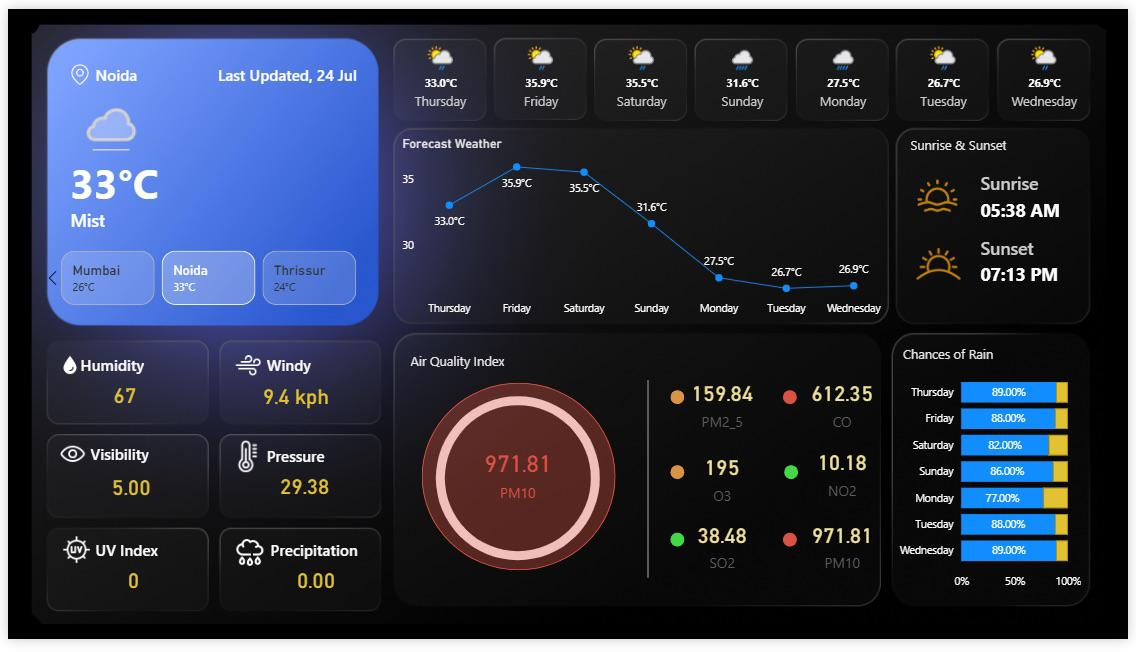

What the dashboard file says about the page in this screenshot:
{"tool":"powerbi","page":{"name":"Page 1","canvas":[1280,720],"ordinal":0},"visuals":[{"type":"image","box":[0,0,1280,720],"z":0},{"type":"advancedSlicerVisual","fields":{"Values":["Locations.location.name"]},"box":[35.7,271.4,388.6,72.9],"z":1000},{"type":"shape","box":[71.4,167.1,141.4,61.4],"z":2000},{"type":"shape","box":[71.4,210,178.6,61.4],"z":3000},{"type":"shape","box":[100,48.6,124.3,52.9],"z":4000},{"type":"shape","box":[240,48.6,174.3,52.9],"z":5000},{"type":"image","box":[51.4,58.6,61.4,32.9],"z":6000},{"type":"cardVisual","fields":{"Data":["Min(Current.current.condition.icon)"]},"box":[57.1,75.7,111.4,91.4],"z":7000},{"type":"image","box":[32.9,391.4,75.7,31.4],"z":8000},{"type":"shape","box":[82.9,380,191.4,52.9],"z":9000},{"type":"image","box":[252.9,387.1,42.9,40],"z":10000},{"type":"shape","box":[295.7,380,191.4,52.9],"z":11000},{"type":"image","box":[47.1,487.1,52.9,42.9],"z":12000},{"type":"shape","box":[94.3,481.4,191.4,52.9],"z":13000},{"type":"image","box":[247.1,488.6,52.9,45.7],"z":14000},{"type":"shape","box":[295.7,484.3,191.4,52.9],"z":15000},{"type":"image","box":[57.1,594.3,42.9,47.1],"z":16000},{"type":"shape","box":[100,591.4,191.4,52.9],"z":17000},{"type":"image","box":[252.9,594.3,47.1,54.3],"z":18000},{"type":"shape","box":[300,591.4,191.4,52.9],"z":19000},{"type":"card","fields":{"Values":["Sum(Current.current.humidity)"]},"box":[71.4,391.4,124.3,98.6],"z":20000},{"type":"card","fields":{"Values":["Locations.Wind_Speed"]},"box":[267.1,392.9,124.3,98.6],"z":21000},{"type":"card","fields":{"Values":["Sum(Current.current.pressure_in)"]},"box":[277.1,495.7,124.3,98.6],"z":22000},{"type":"card","fields":{"Values":["Sum(Current.current.vis_km)"]},"box":[78.6,497.1,124.3,98.6],"z":23000},{"type":"card","fields":{"Values":["Sum(Current.current.uv)"]},"box":[81.4,607.1,124.3,90],"z":24000},{"type":"card","fields":{"Values":["Sum(Current.current.precip_in)"]},"box":[290,607.1,124.3,90],"z":25000},{"type":"advancedSlicerVisual","fields":{"Values":["forecast_day.Day_Name"]},"box":[435.7,31.4,807.1,101.4],"z":26000},{"type":"lineChart","title":"Forecast Weather","fields":{"Y":["Sum(forecast_day.forecast.forecastday.day.avgtemp_c)"],"Category":["forecast_day.Day_Name"]},"box":[445.7,145.7,562.9,214.3],"z":27000},{"type":"shape","box":[1031.4,132.9,160,44.3],"z":28000},{"type":"shape","box":[1111.4,198.6,105.7,61.4],"z":29000},{"type":"shape","box":[1111.4,271.4,105.7,61.4],"z":30000},{"type":"shape","box":[1111.4,167.1,105.7,61.4],"z":31000},{"type":"shape","box":[1111.4,241.4,105.7,61.4],"z":32000},{"type":"image","box":[1031.4,185.7,61.4,55.7],"z":33000},{"type":"image","box":[1024.3,252.9,78.6,77.1],"z":34000},{"type":"hundredPercentStackedBarChart","title":"Chance of R","fields":{"Category":["forecast_day.Day_Name"],"Y":["Sum(forecast_day.forecast.forecastday.day.daily_chance_of_rain)","Locations.Left_value_Rain"]},"box":[1008.6,401.4,222.9,271.4],"z":35000},{"type":"shape","box":[1022.9,371.4,160,44.3],"z":36000},{"type":"shape","box":[460,380,160,44.3],"z":37000},{"type":"card","fields":{"Values":["Sum(Current.current.air_quality.co)"]},"box":[901.4,412.9,104.3,74.3],"z":38000},{"type":"card","fields":{"Values":["Sum(Current.current.air_quality.no2)"]},"box":[901.4,491.4,104.3,74.3],"z":39000},{"type":"card","fields":{"Values":["Sum(Current.current.air_quality.pm10)"]},"box":[901.4,574.3,104.3,74.3],"z":40000},{"type":"card","fields":{"Values":["Sum(Current.current.air_quality.pm2_5)"]},"box":[764.3,412.9,104.3,74.3],"z":41000},{"type":"card","fields":{"Values":["Sum(Current.current.air_quality.o3)"]},"box":[764.3,497.1,104.3,74.3],"z":42000},{"type":"card","fields":{"Values":["Sum(Current.current.air_quality.so2)"]},"box":[764.3,574.3,104.3,74.3],"z":43000},{"type":"shape","box":[757.1,435.7,15.7,15.7],"z":44000},{"type":"shape","box":[757.1,521.4,15.7,15.7],"z":45000},{"type":"shape","box":[757.1,598.6,15.7,15.7],"z":46000},{"type":"shape","box":[885.7,435.7,15.7,15.7],"z":47000},{"type":"shape","box":[887.1,521.4,15.7,15.7],"z":48000},{"type":"shape","box":[885.7,598.6,15.7,15.7],"z":49000},{"type":"shape","box":[622.9,424.3,217.1,225.7],"z":50000},{"type":"card","fields":{"Values":["Sum(Current.current.air_quality.pm10)"]},"box":[525.7,484.3,114.3,91.4],"z":51000},{"type":"donutChart","fields":{"Y":["Sum(Current.current.air_quality.pm10)","Locations.Minus VAlue"]},"box":[360,414.3,445.7,244.3],"z":52000},{"type":"shape","box":[472.9,427.1,221.4,214.3],"z":53000}]}

Visuals, with their boxes in screenshot pixels (x1, y1, x2, y2), scaled from the page's 1280x720 canvas onto the 1136x652 screenshot:
image: 0/0/1135/651
advancedSlicerVisual - Locations.location.name: 32/246/377/312
shape: 63/151/189/207
shape: 63/190/222/246
shape: 89/44/199/92
shape: 213/44/368/92
image: 46/53/100/83
cardVisual - Min(Current.current.condition.icon): 51/69/150/151
image: 29/354/96/383
shape: 74/344/243/392
image: 224/351/263/387
shape: 262/344/432/392
image: 42/441/89/480
shape: 84/436/254/484
image: 219/442/266/484
shape: 262/439/432/486
image: 51/538/89/581
shape: 89/536/259/583
image: 224/538/266/587
shape: 266/536/436/583
card - Sum(Current.current.humidity): 63/354/174/444
card - Locations.Wind_Speed: 237/356/347/445
card - Sum(Current.current.pressure_in): 246/449/356/538
card - Sum(Current.current.vis_km): 70/450/180/539
card - Sum(Current.current.uv): 72/550/183/631
card - Sum(Current.current.precip_in): 257/550/368/631
advancedSlicerVisual - forecast_day.Day_Name: 387/28/1103/120
"Forecast Weather" lineChart: 396/132/895/326
shape: 915/120/1057/160
shape: 986/180/1080/235
shape: 986/246/1080/301
shape: 986/151/1080/207
shape: 986/219/1080/274
image: 915/168/970/219
image: 909/229/979/299
"Chance of R" hundredPercentStackedBarChart: 895/363/1093/609
shape: 908/336/1050/376
shape: 408/344/550/384
card - Sum(Current.current.air_quality.co): 800/374/893/441
card - Sum(Current.current.air_quality.no2): 800/445/893/512
card - Sum(Current.current.air_quality.pm10): 800/520/893/587
card - Sum(Current.current.air_quality.pm2_5): 678/374/771/441
card - Sum(Current.current.air_quality.o3): 678/450/771/517
card - Sum(Current.current.air_quality.so2): 678/520/771/587
shape: 672/395/686/409
shape: 672/472/686/486
shape: 672/542/686/556
shape: 786/395/800/409
shape: 787/472/801/486
shape: 786/542/800/556
shape: 553/384/746/589
card - Sum(Current.current.air_quality.pm10): 467/439/568/521
donutChart - Sum(Current.current.air_quality.pm10) x Locations.Minus VAlue: 320/375/715/596
shape: 420/387/616/581
